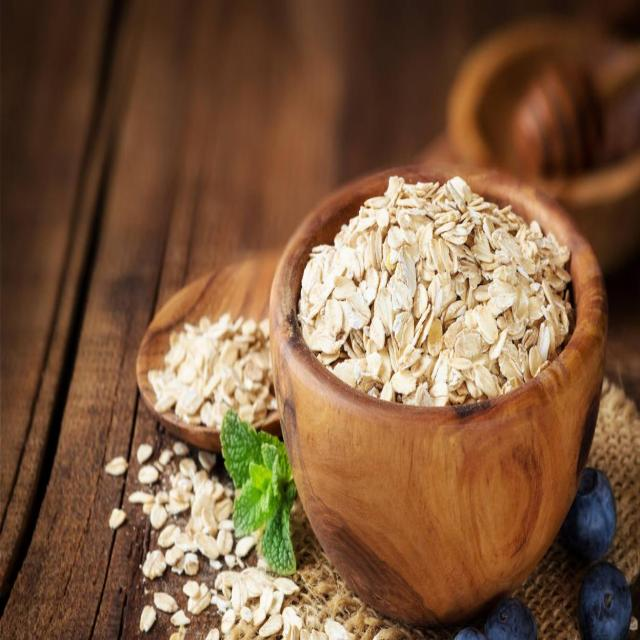avena: (269, 150, 608, 456)
